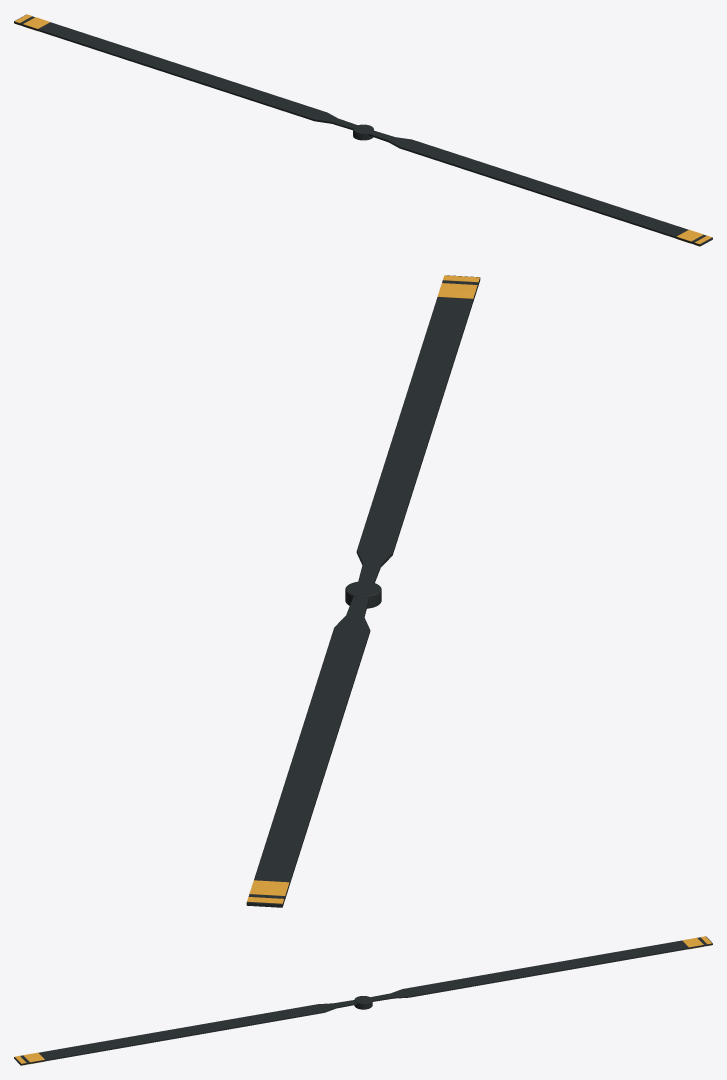
Rendered from JetRangerRotor.fbx.
3 renders of one model, top to bottom at view 1: azimuth 30°, elevation 25°; view 2: azimuth 150°, elevation 25°; view 3: azimuth 270°, elevation 25°, orthographic. The views are drawn at different scales.
Parts seen in each view (by area): view 1: JetRangerRotor; view 2: JetRangerRotor; view 3: JetRangerRotor.
Part boxes in pixels (left/top/right/bottom): JetRangerRotor: left=14, top=14, right=712, bottom=246; JetRangerRotor: left=246, top=275, right=480, bottom=907; JetRangerRotor: left=14, top=936, right=712, bottom=1065.
Size of the model in its own units: 428 by 10.2 by 989.
